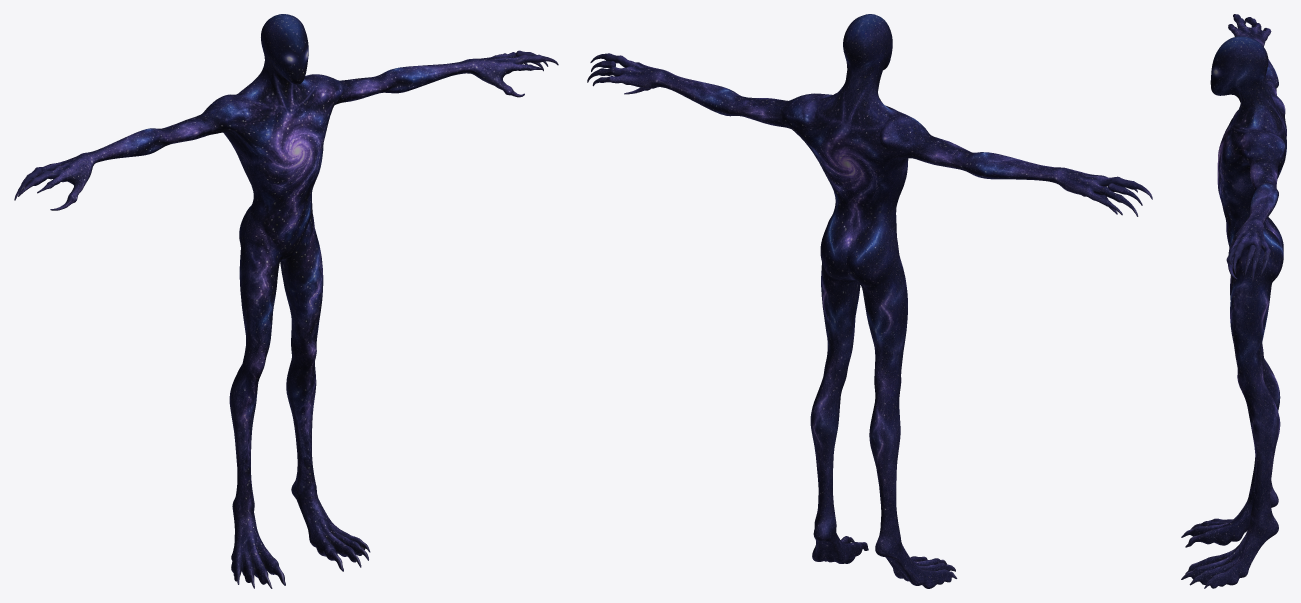
The model's file is Void.glb.
3 renders of one model, left to right at view 1: azimuth 30°, elevation 25°; view 2: azimuth 150°, elevation 25°; view 3: azimuth 270°, elevation 25°, orthographic. The views are drawn at different scales.
Parts seen in each view (by area): view 1: Mesh_0; view 2: Mesh_0; view 3: Mesh_0.
Part boxes in pixels (x1,y1,x2,y2): Mesh_0: [14, 14, 558, 588]; Mesh_0: [587, 14, 1152, 588]; Mesh_0: [1181, 14, 1286, 588].
Bounding box in the file's own units: 1.9 × 1.82 × 0.3342.
1 material, 1 textured.
